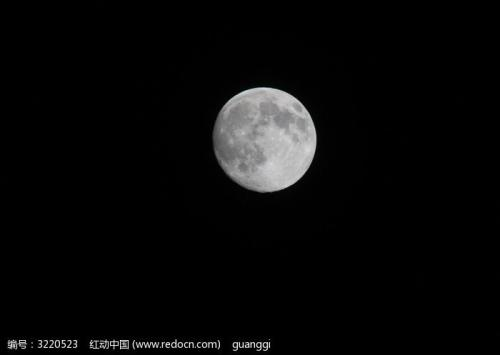moon: (211, 86, 317, 194)
